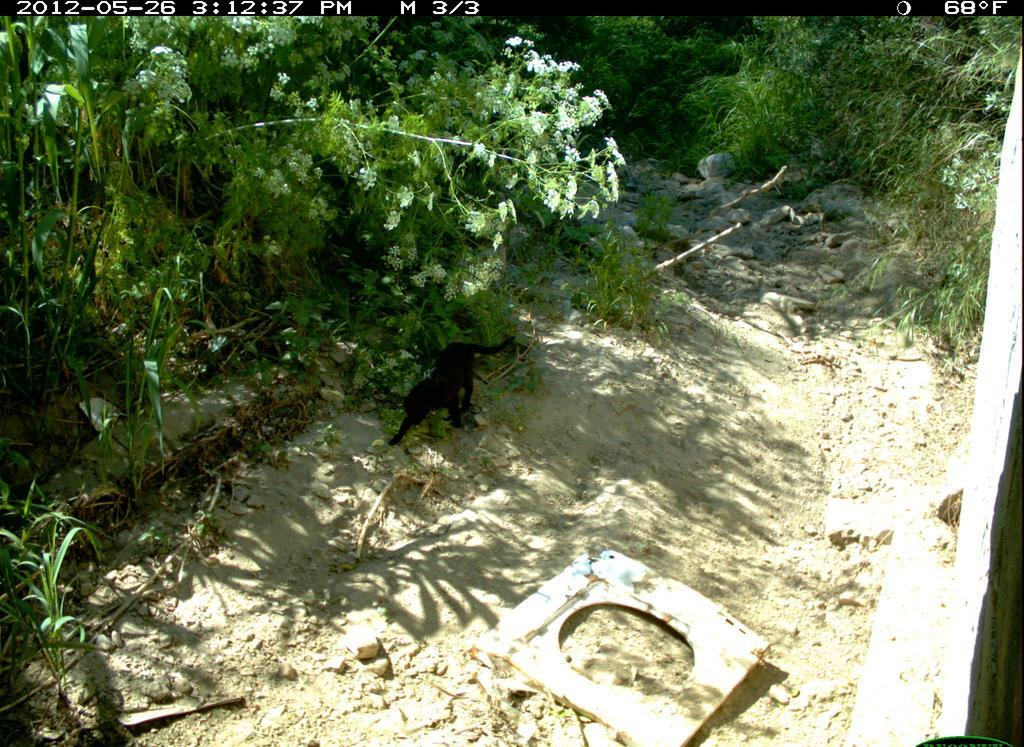cat: (387, 337, 518, 449)
